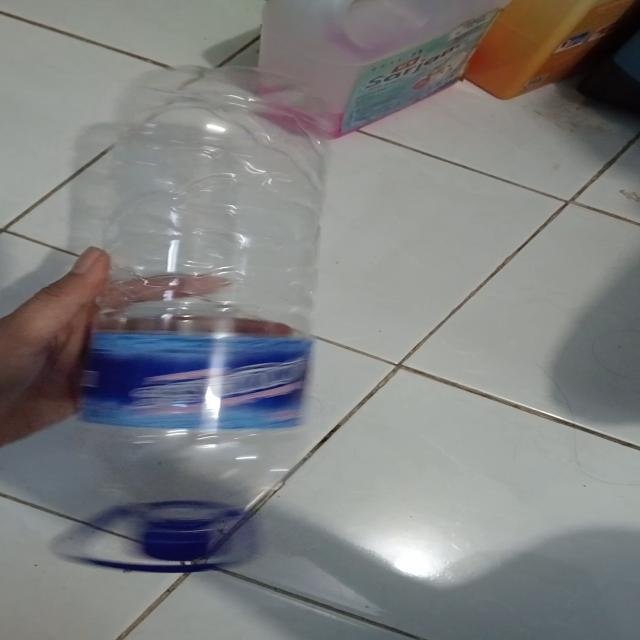Botol bekas: (60, 102, 329, 570)
